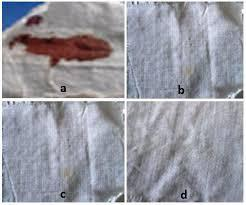blood: (9, 30, 112, 66)
